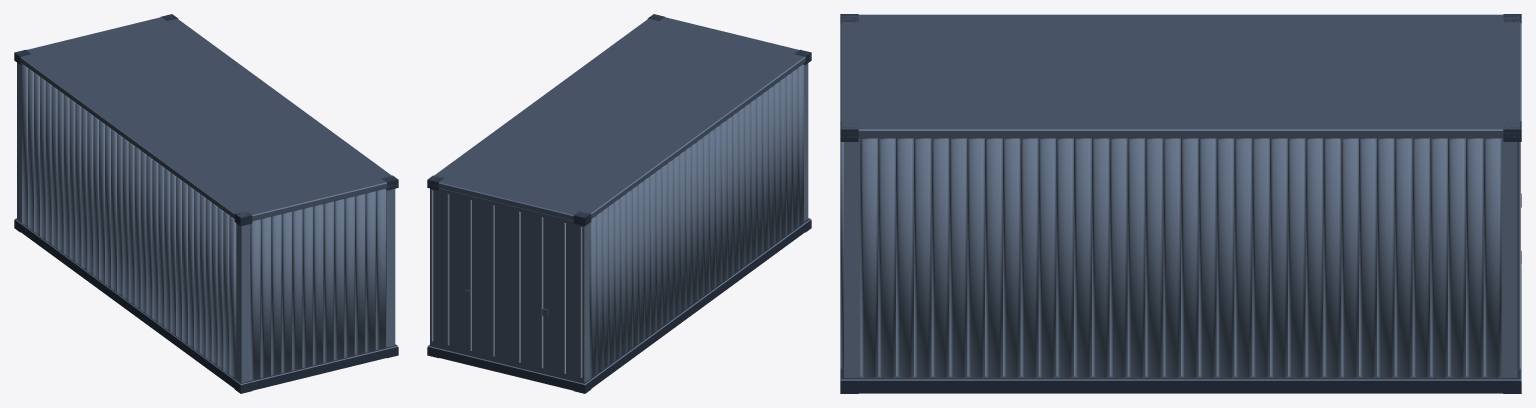
Rendered from container_20ft.glb.
3 renders of one model, left to right at view 1: azimuth 30°, elevation 25°; view 2: azimuth 150°, elevation 25°; view 3: azimuth 270°, elevation 25°, orthographic. The views are drawn at different scales.
Parts seen in each view (by area): view 1: container_20ft; view 2: container_20ft; view 3: container_20ft.
Boxes of the visible parts, bbox=[...] form: container_20ft: bbox=[14, 14, 398, 393]; container_20ft: bbox=[427, 14, 811, 393]; container_20ft: bbox=[840, 14, 1521, 393].
Size of the model in its own units: 2.44 by 2.59 by 6.06.
